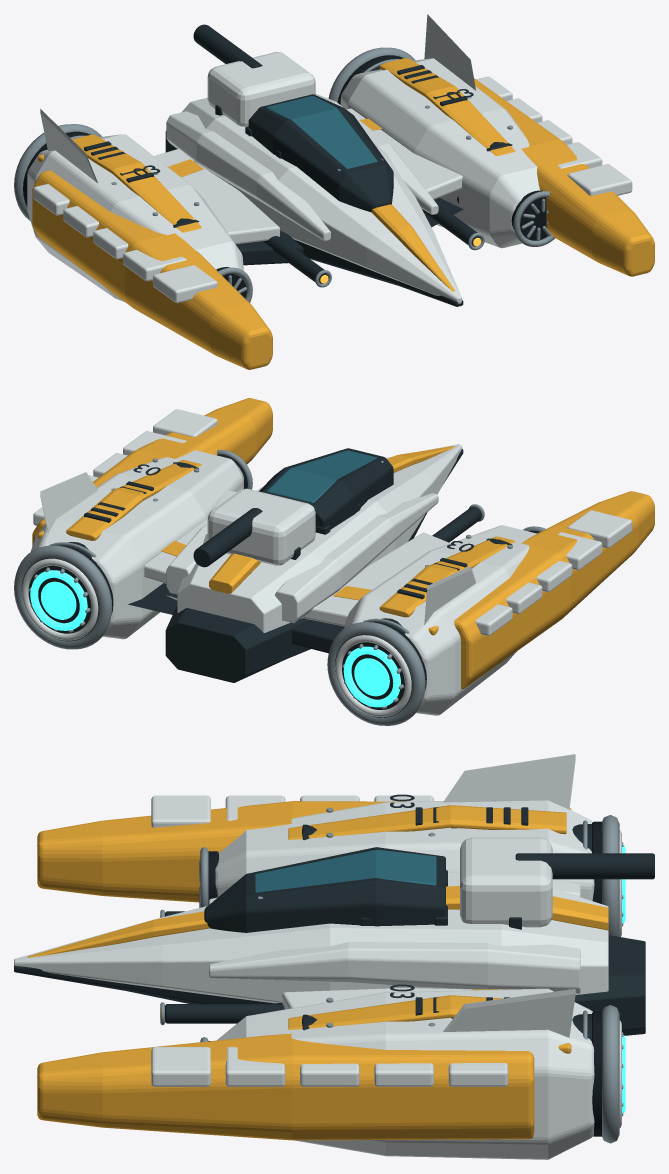
The model's file is bastion.glb.
The picture shows the model from 3 angles, top to bottom: view 1: azimuth 30°, elevation 25°; view 2: azimuth 150°, elevation 25°; view 3: azimuth 270°, elevation 25°; orthographic projection. The views are drawn at different scales.
Visible parts, largest first — view 1: Ceramic_Paint.002, Livery_Paint.002, Carbon_Composite.002, Titanium.002, Canopy_Glass.002, Recesses.002; view 2: Ceramic_Paint.002, Livery_Paint.002, Carbon_Composite.002, Titanium.002, Ion_Emission.002, Canopy_Glass.002, Recesses.002; view 3: Ceramic_Paint.002, Livery_Paint.002, Carbon_Composite.002, Titanium.002, Canopy_Glass.002, Recesses.002.
Boxes of the visible parts, x1,y1,x2,y2 form: Ceramic_Paint.002: (27, 14, 632, 303); Livery_Paint.002: (32, 58, 654, 369); Carbon_Composite.002: (84, 24, 512, 306); Titanium.002: (14, 47, 554, 302); Canopy_Glass.002: (267, 96, 377, 168); Recesses.002: (23, 55, 547, 298); Ceramic_Paint.002: (21, 409, 632, 717); Livery_Paint.002: (32, 398, 654, 689); Carbon_Composite.002: (21, 448, 512, 717); Titanium.002: (14, 450, 545, 725); Ion_Emission.002: (30, 570, 400, 707); Canopy_Glass.002: (266, 450, 377, 502); Recesses.002: (62, 454, 539, 690); Ceramic_Paint.002: (14, 754, 621, 1159); Livery_Paint.002: (28, 801, 608, 1140); Carbon_Composite.002: (14, 794, 654, 1041); Titanium.002: (160, 807, 623, 1143); Canopy_Glass.002: (255, 850, 436, 892); Recesses.002: (208, 821, 601, 1136).
Bounding box in the file's own units: 7.06 × 2.24 × 6.9.
